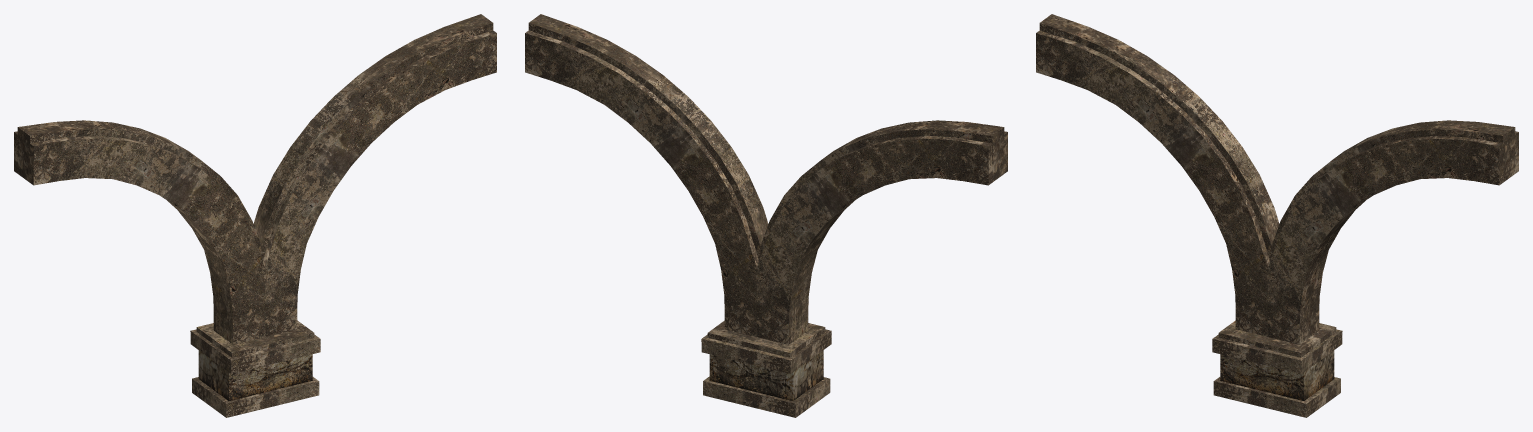
File: materials_5_arch_19.fbx
3 renders of one model, left to right at view 1: azimuth 30°, elevation 25°; view 2: azimuth 150°, elevation 25°; view 3: azimuth 330°, elevation 25°, orthographic.
Parts seen in each view (by area): view 1: materials_5_arch_19; view 2: materials_5_arch_19; view 3: materials_5_arch_19.
Part boxes in pixels (x1,y1,x2,y2): materials_5_arch_19: [14, 14, 496, 417]; materials_5_arch_19: [525, 14, 1007, 417]; materials_5_arch_19: [1036, 14, 1518, 417].
Bounding box in the file's own units: 168 × 111 × 25.7.
